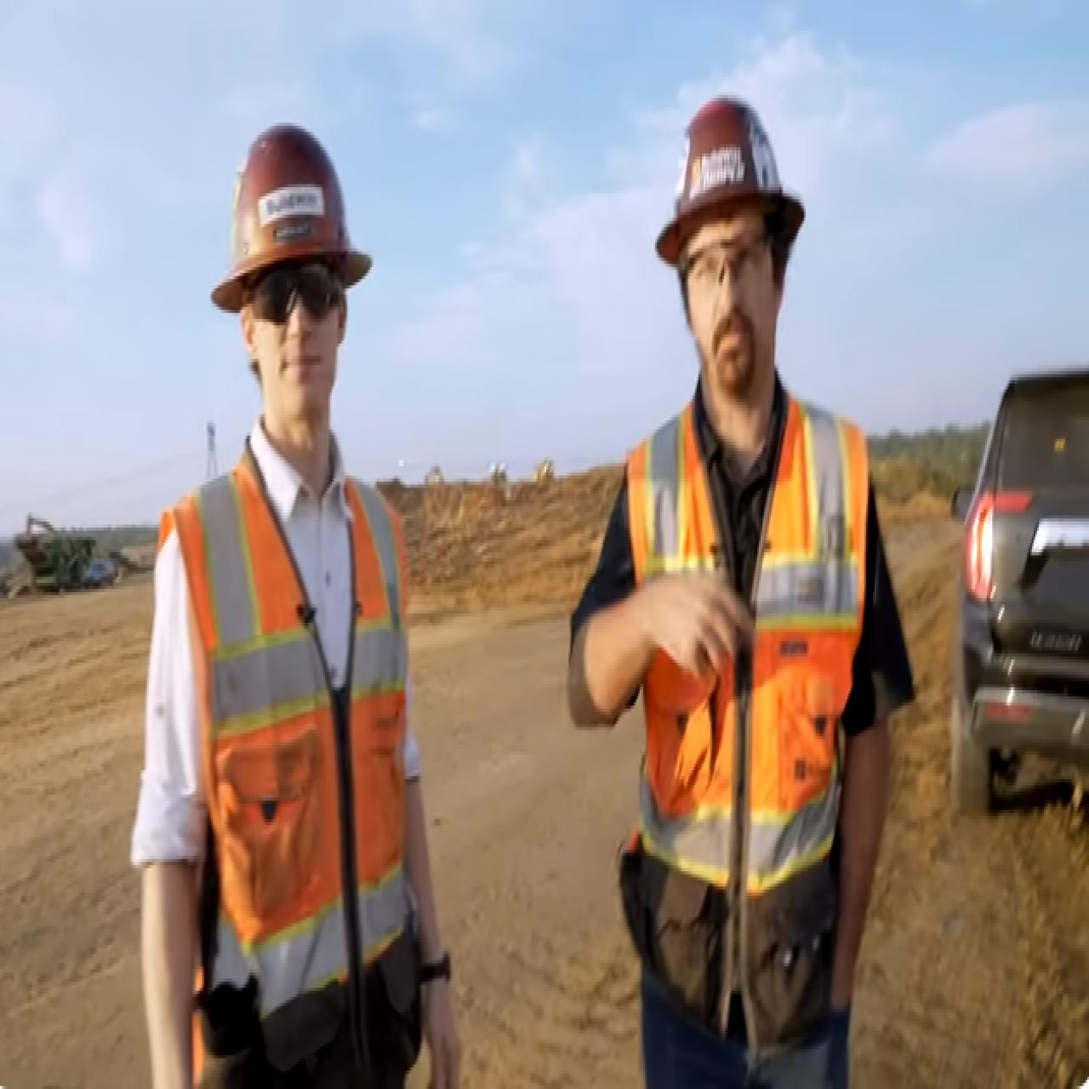Person: (563, 67, 926, 1089), (117, 88, 478, 1089)
Safety_Vest: (622, 395, 870, 948), (187, 469, 424, 1042)
